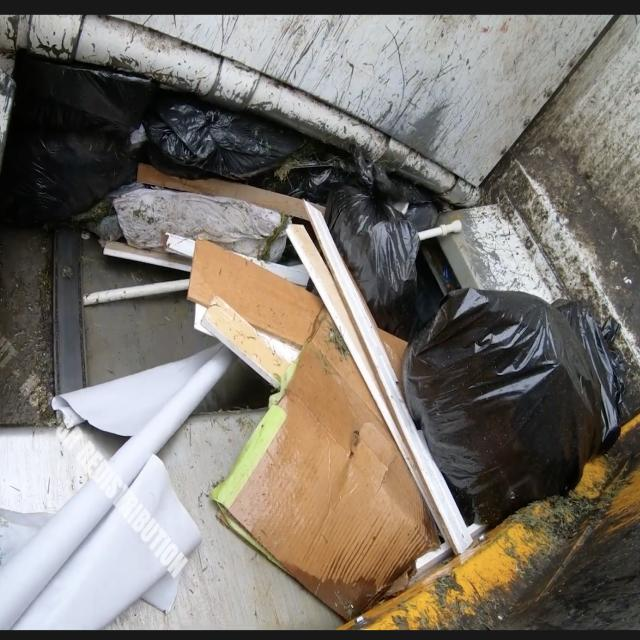bag: (407, 261, 610, 526), (292, 164, 474, 342)
cardboard: (168, 230, 438, 606)
furniture: (271, 193, 472, 576)
